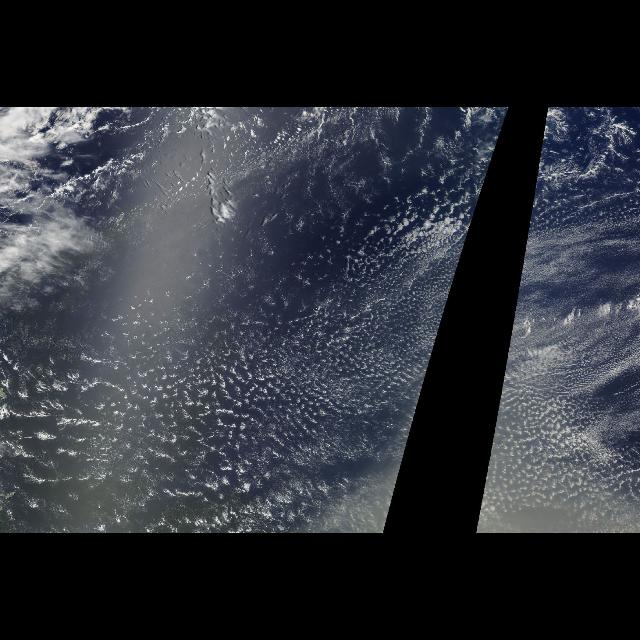Sugar: (498, 210, 638, 404), (406, 210, 476, 404)
